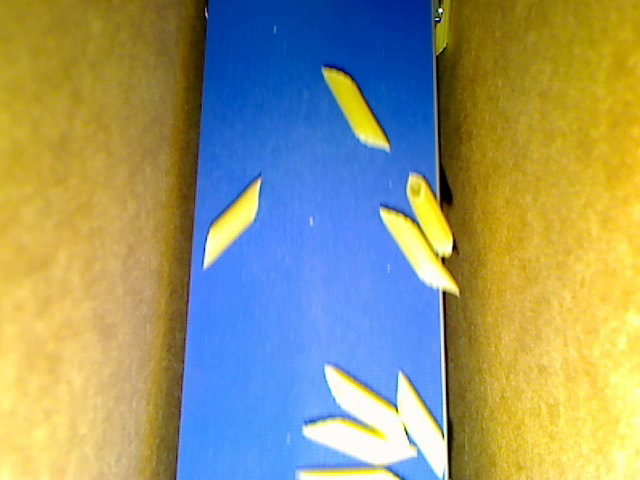penne: (325, 361, 410, 448), (383, 204, 456, 297), (200, 172, 263, 272), (316, 64, 388, 146), (303, 416, 418, 466), (393, 368, 443, 478), (404, 169, 456, 254), (293, 467, 398, 479), (435, 1, 452, 60)
